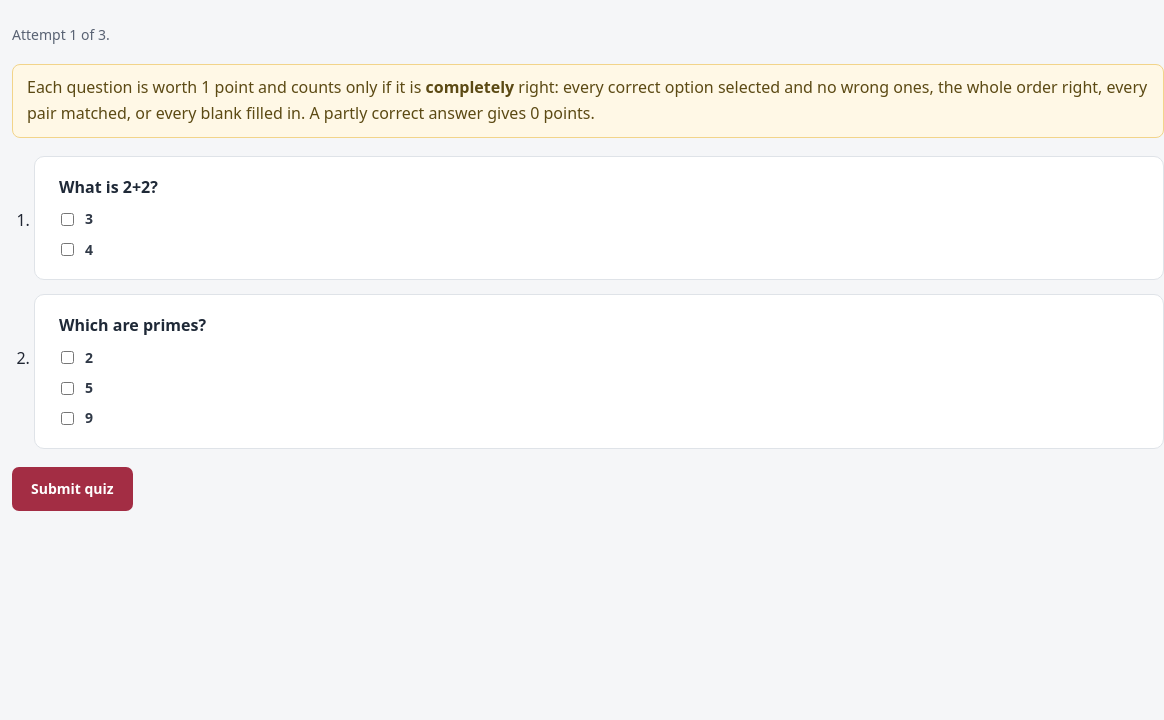
Test case: QuizTaker › shows the server message for a 403 instead of guessing the reason
The image size is (1164, 720).
Click the button "Submit quiz". click: point(72, 489)
box: left=12, top=467, right=133, bottom=511
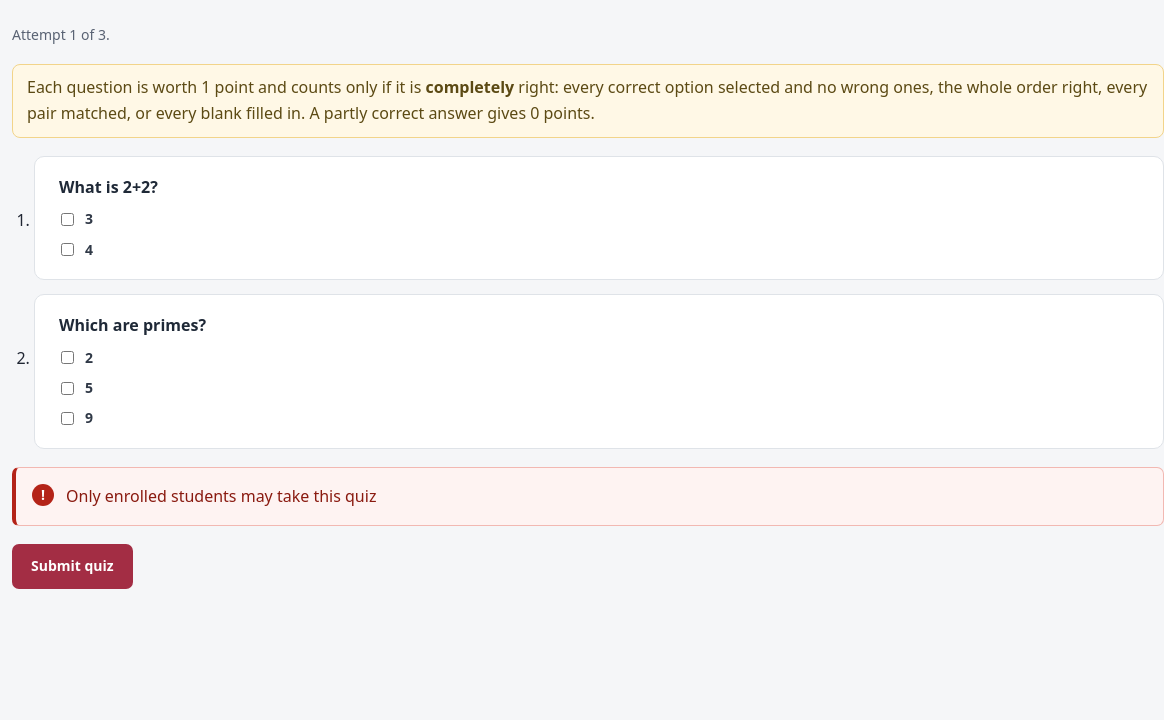
Now the text "Only enrolled students may take this quiz" is shown, box left=66, top=484, right=376, bottom=509
